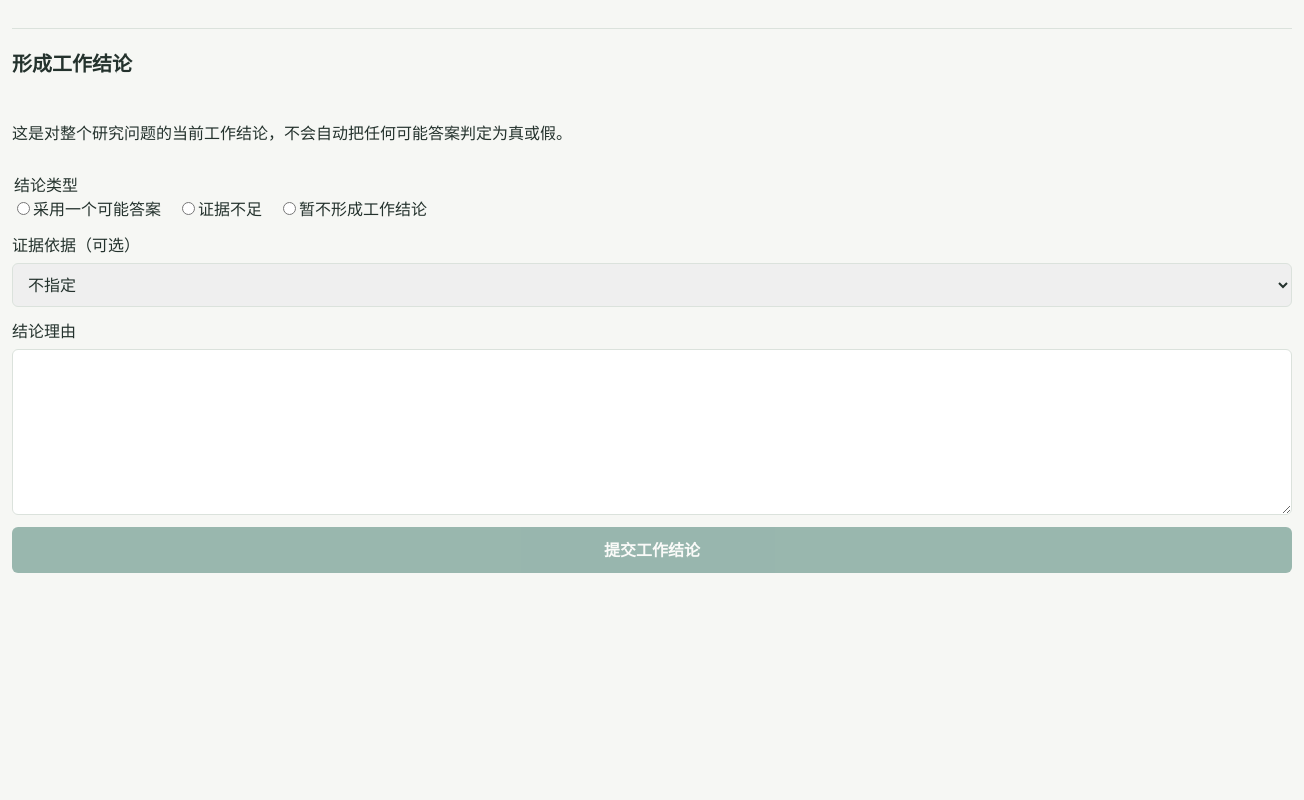
Test: Issue Resolution Composer › freezes unknown result and retries the exact same key/body
This screenshot has width=1304, height=800.
Expected: the heading "形成工作结论" is shown, [12, 52, 132, 76]
Click the radio button labelled "采用一个可能答案" at [24, 208], box [17, 202, 30, 215]
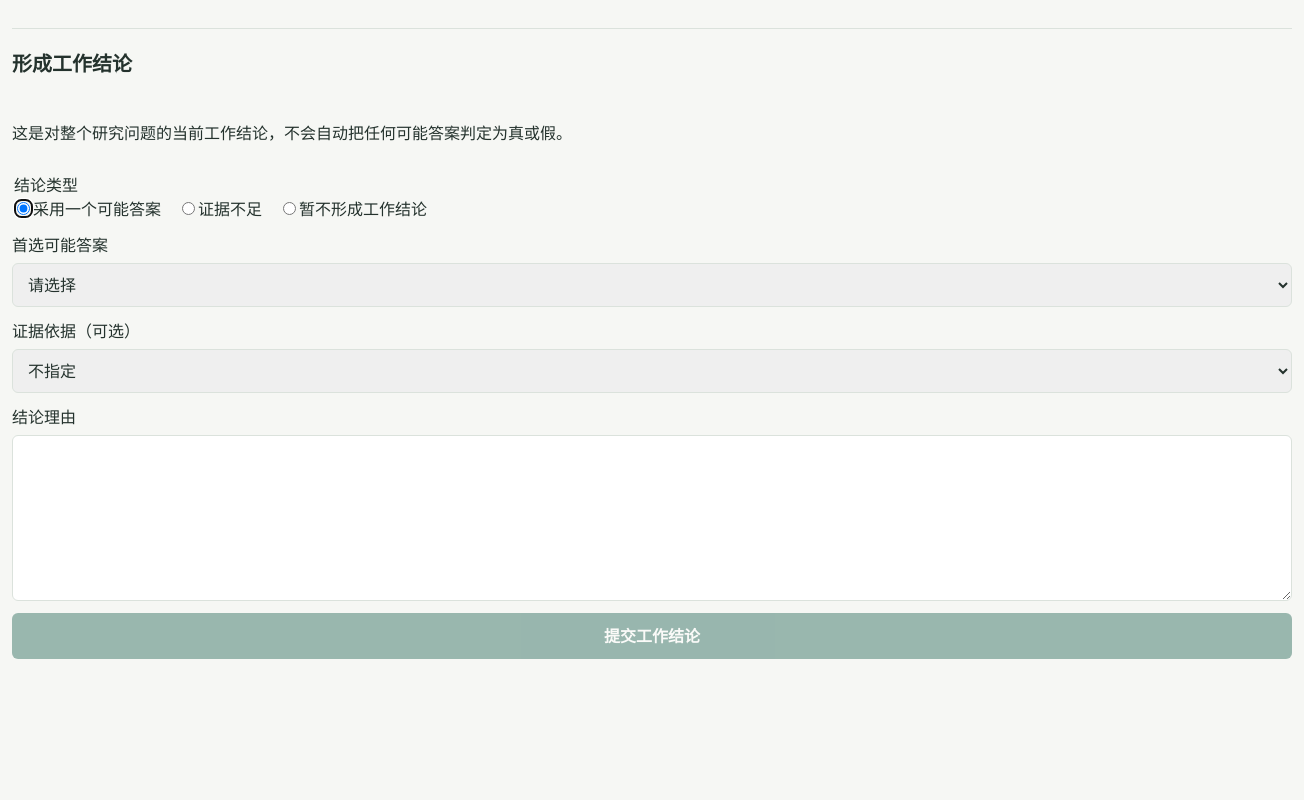
Select "可能答案 A" in the dropdown labelled "首选可能答案" at [652, 285], box [12, 263, 1292, 307]
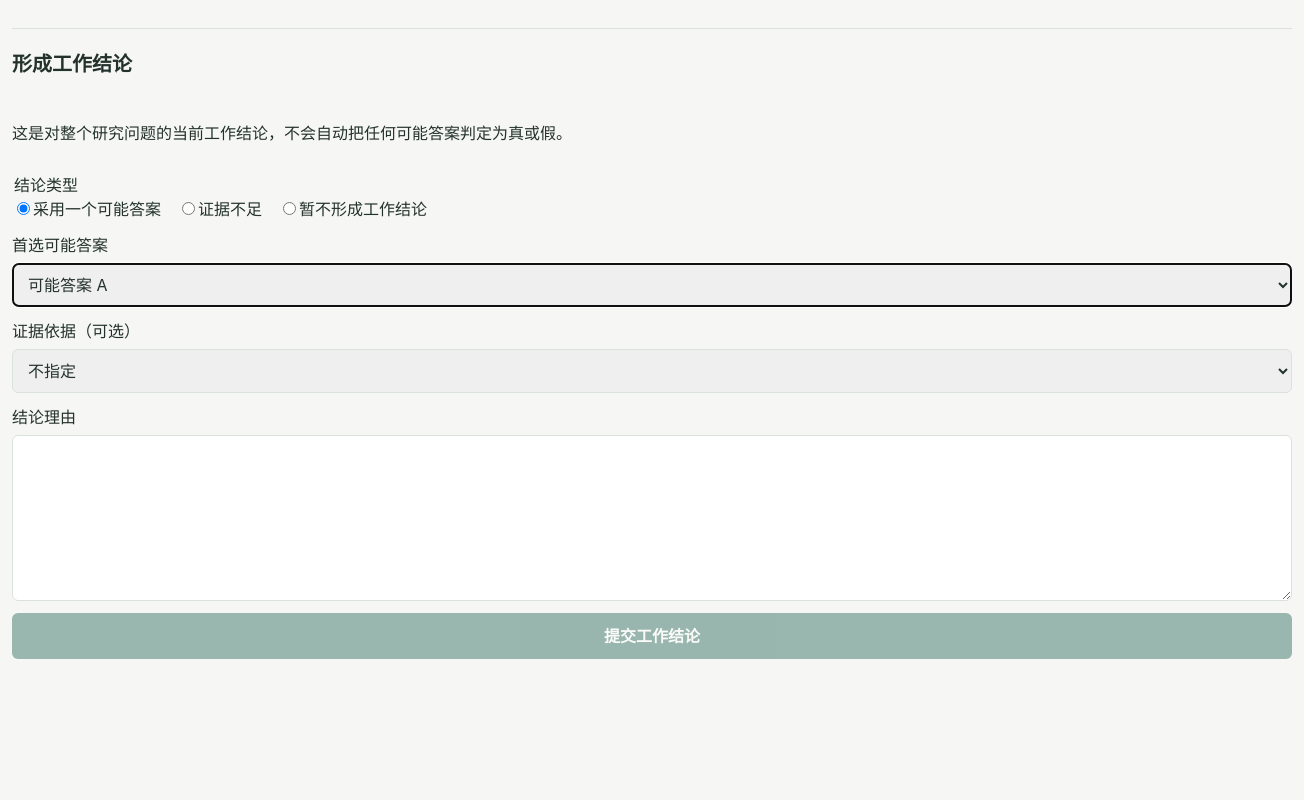
Type "现有证据最支持这个解释。" into the text box labelled "结论理由" at [652, 518], box [12, 435, 1292, 601]
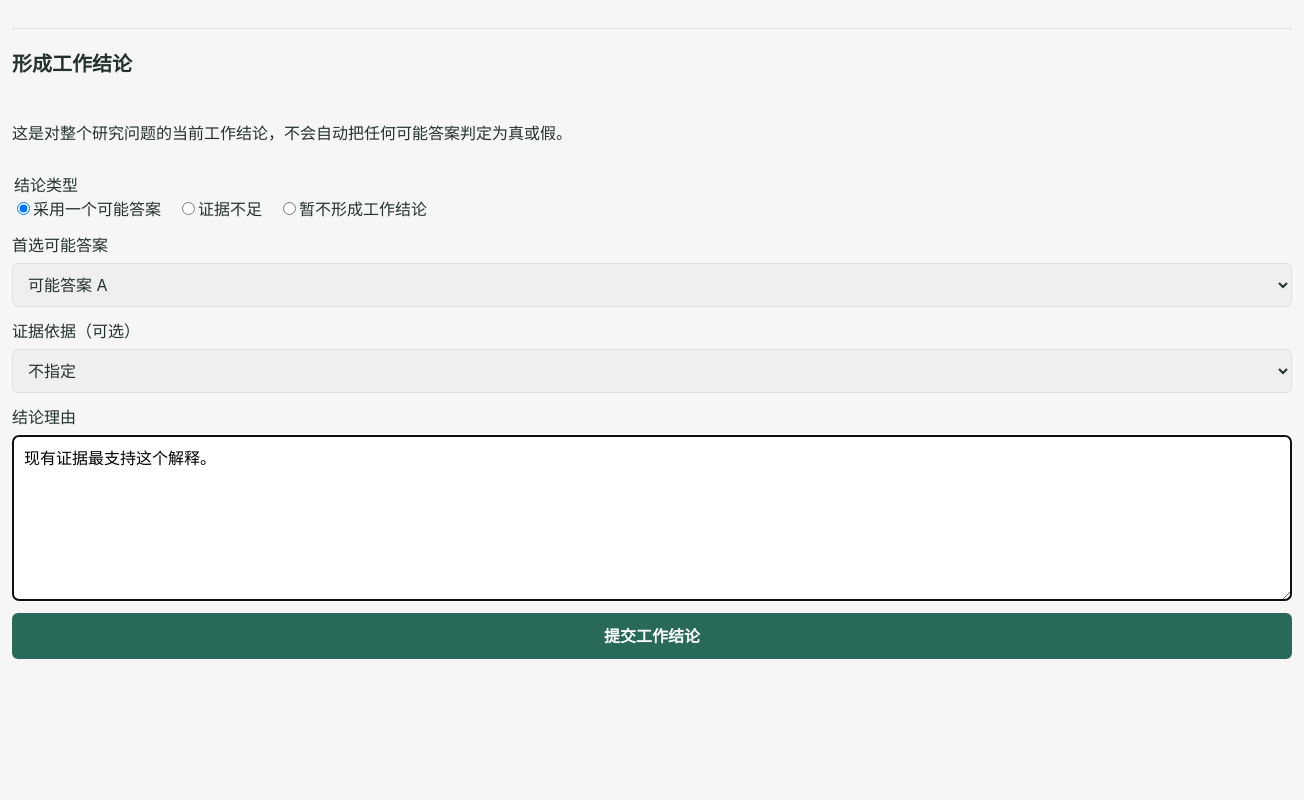
Click the button "提交工作结论" at [652, 636], box [12, 613, 1292, 659]
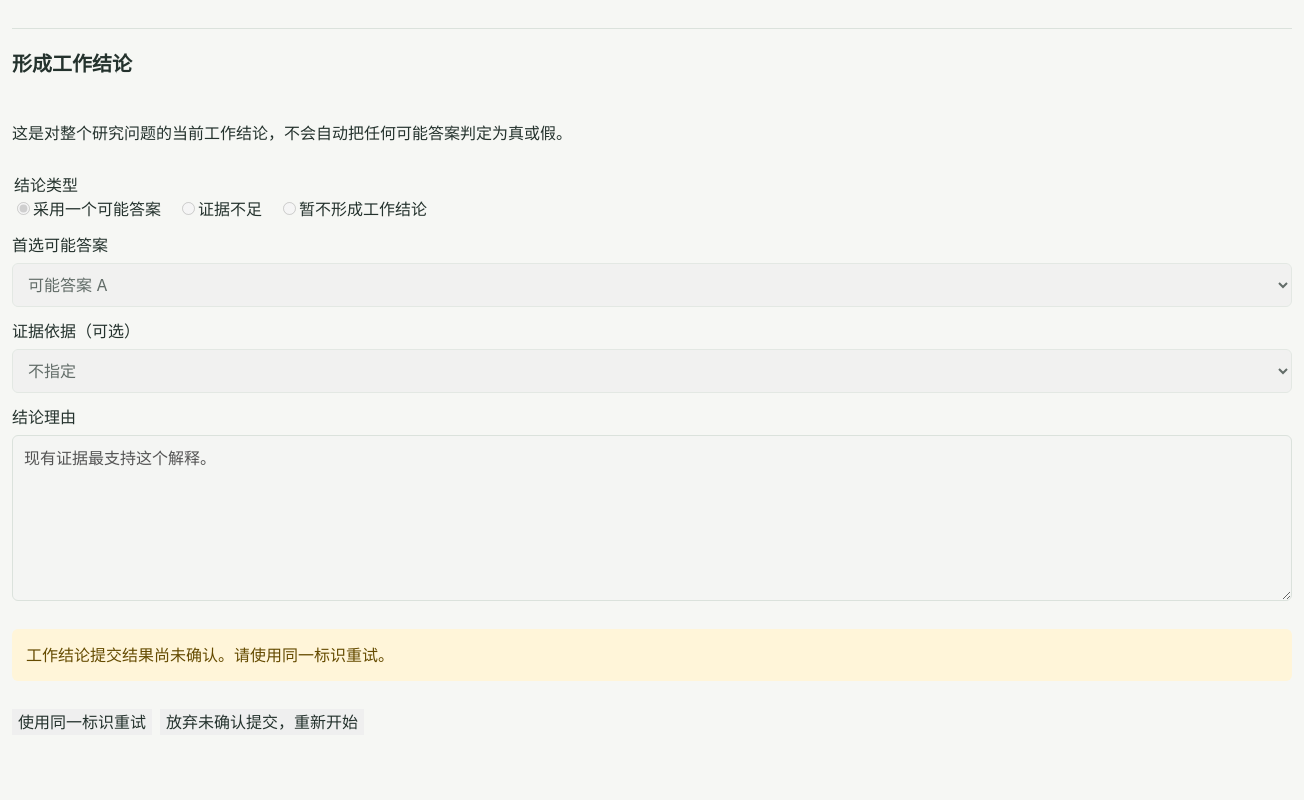
Expected: the text box labelled "结论理由" is disabled, [12, 435, 1292, 601]
Click the button "使用同一标识重试" at [82, 722], box [12, 709, 152, 735]
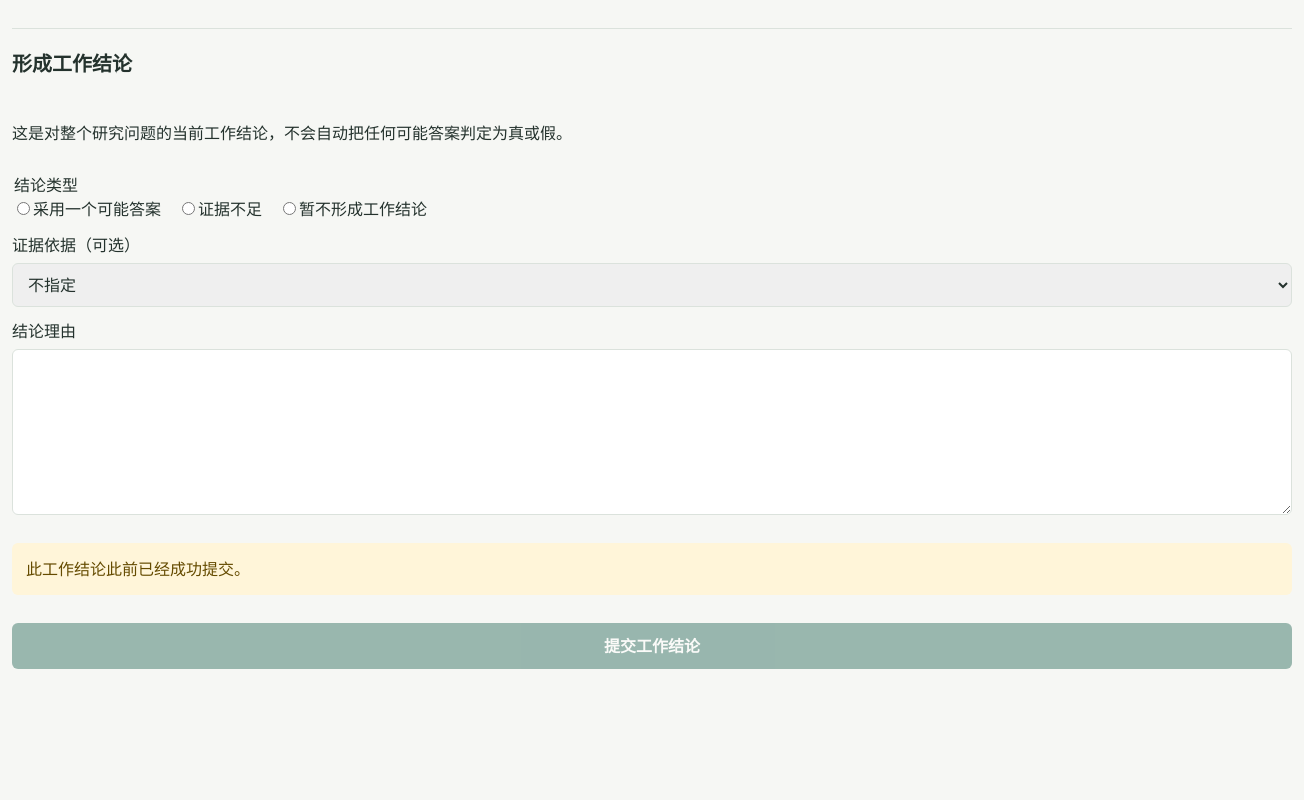
Expected: the text "此工作结论此前已经成功提交。" is shown, [12, 543, 1292, 595]
